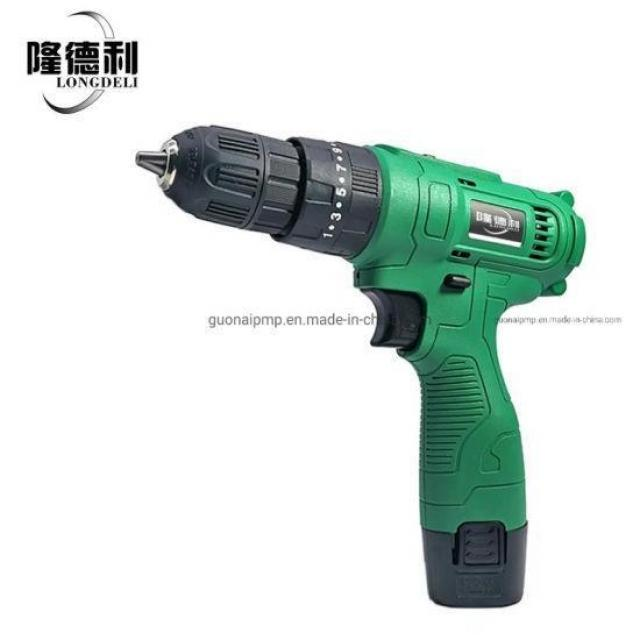drill: (134, 122, 586, 610)
